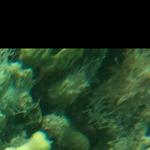dead: (1, 50, 147, 147)
